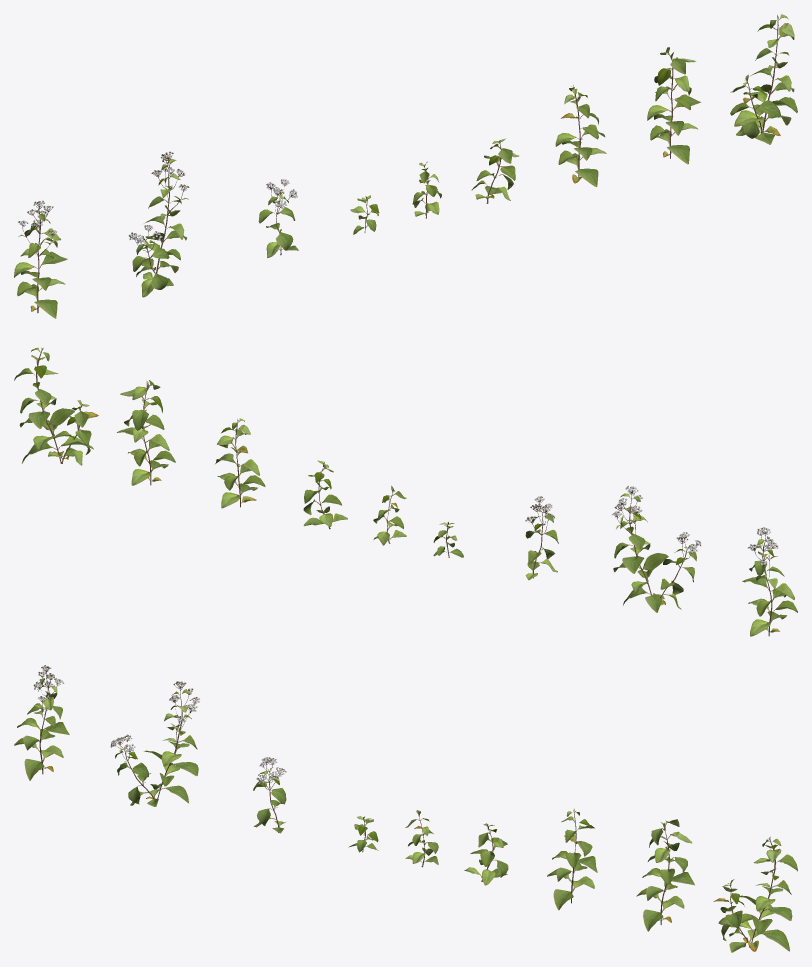
File: shrub_01_mid.glb
3 renders of one model, top to bottom at view 1: azimuth 30°, elevation 25°; view 2: azimuth 150°, elevation 25°; view 3: azimuth 330°, elevation 25°, orthographic. The views are drawn at different scales.
Bounding box in the file's own units: 2.59 × 0.3949 × 0.2183.
Materials: 1 (1 with a texture image).
